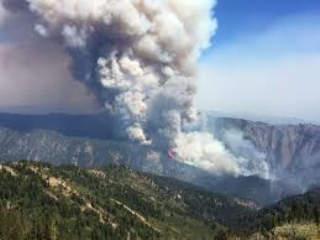fire: (167, 146, 175, 160)
smoke: (36, 1, 198, 133), (174, 123, 279, 186)
